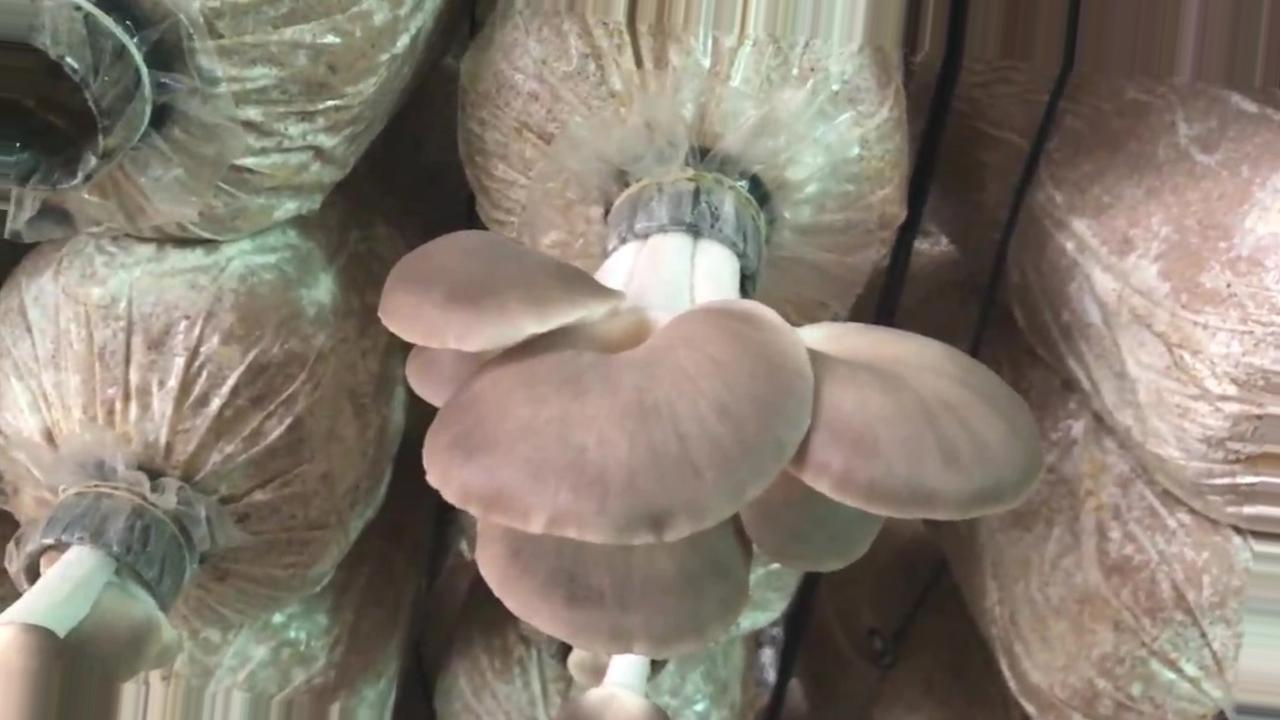nam: (378, 173, 1042, 654), (1, 498, 188, 720), (568, 648, 664, 719)
